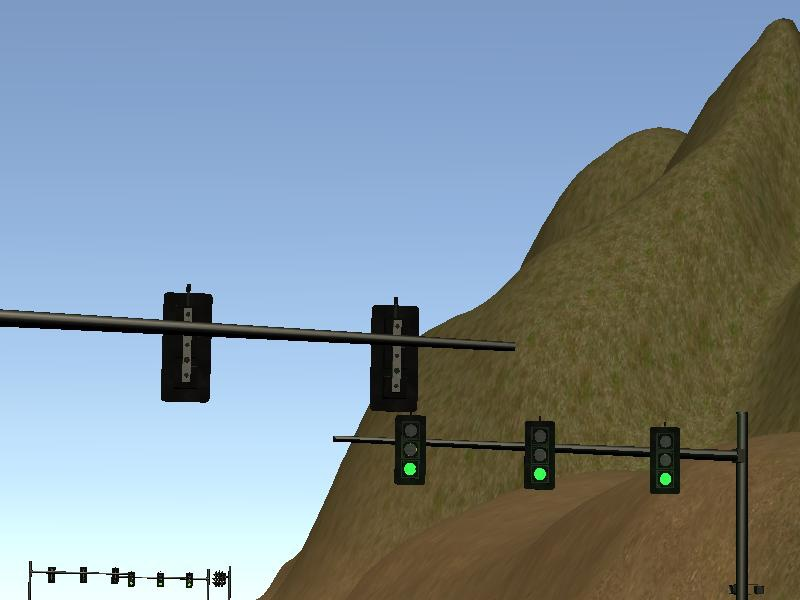Green: (395, 414, 426, 485), (524, 421, 554, 491), (651, 428, 680, 494), (157, 571, 164, 587), (185, 572, 192, 587), (128, 572, 134, 587)
